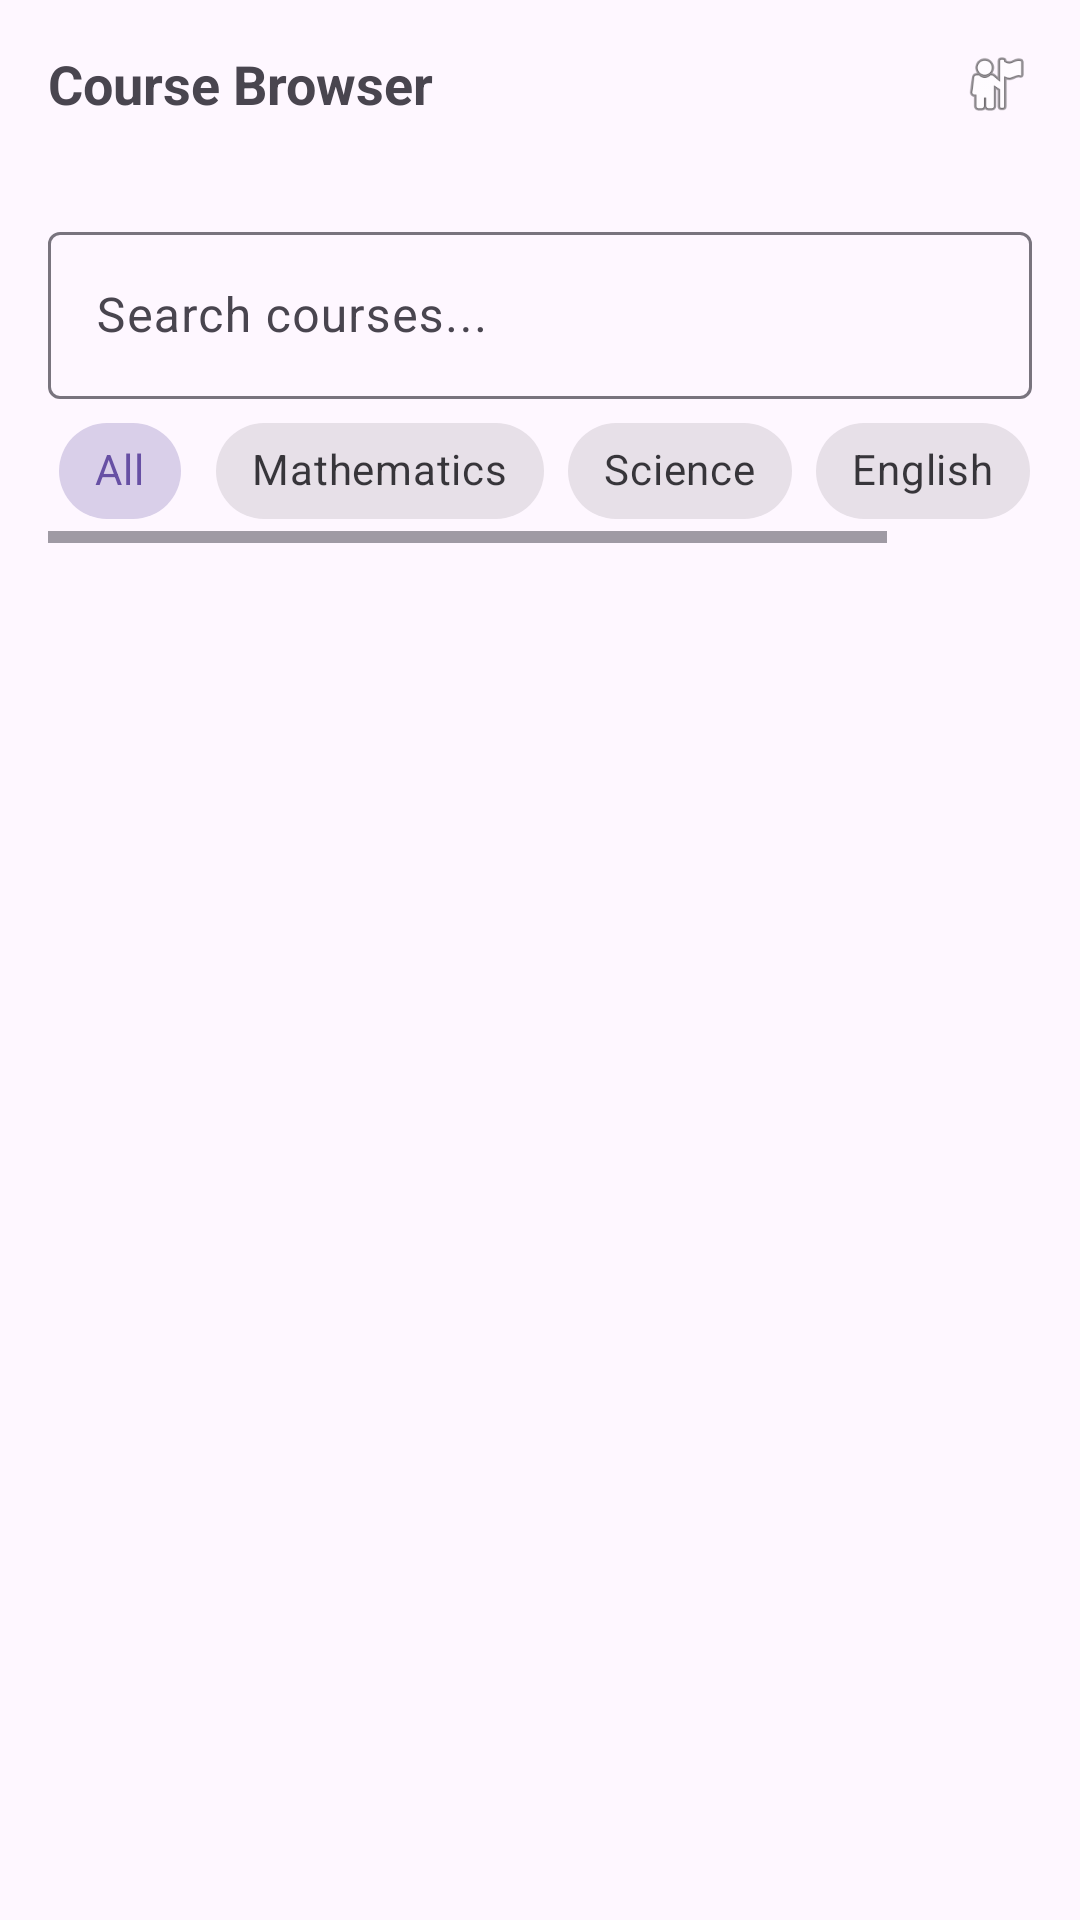

Named icons in this screenshot (1080 × 1920) and their centers, (x,y):
myplaces: (997,84)
